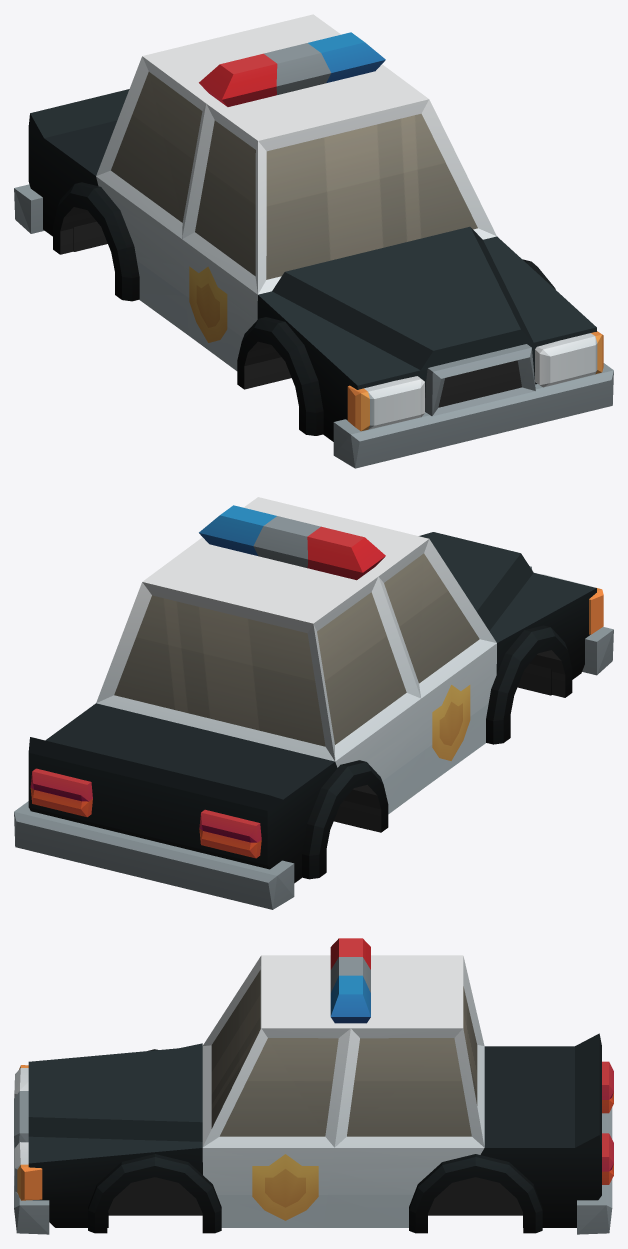
The model's file is car_police.obj.
The picture shows the model from 3 angles, top to bottom: view 1: azimuth 30°, elevation 25°; view 2: azimuth 150°, elevation 25°; view 3: azimuth 270°, elevation 25°; orthographic projection. The views are drawn at different scales.
Parts seen in each view (by area): view 1: car_police_Cube.1022; view 2: car_police_Cube.1022; view 3: car_police_Cube.1022.
Boxes of the visible parts, <box> form: car_police_Cube.1022: <box>14,14,613,468</box>; car_police_Cube.1022: <box>14,497,613,909</box>; car_police_Cube.1022: <box>14,938,613,1234</box>.
Size of the model in its own units: 0.419 by 0.3816 by 0.9381.
1 material, 1 textured.
